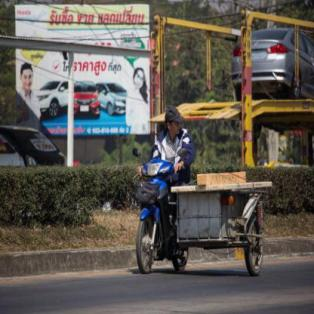Motocicleta: (130, 152, 178, 276)
